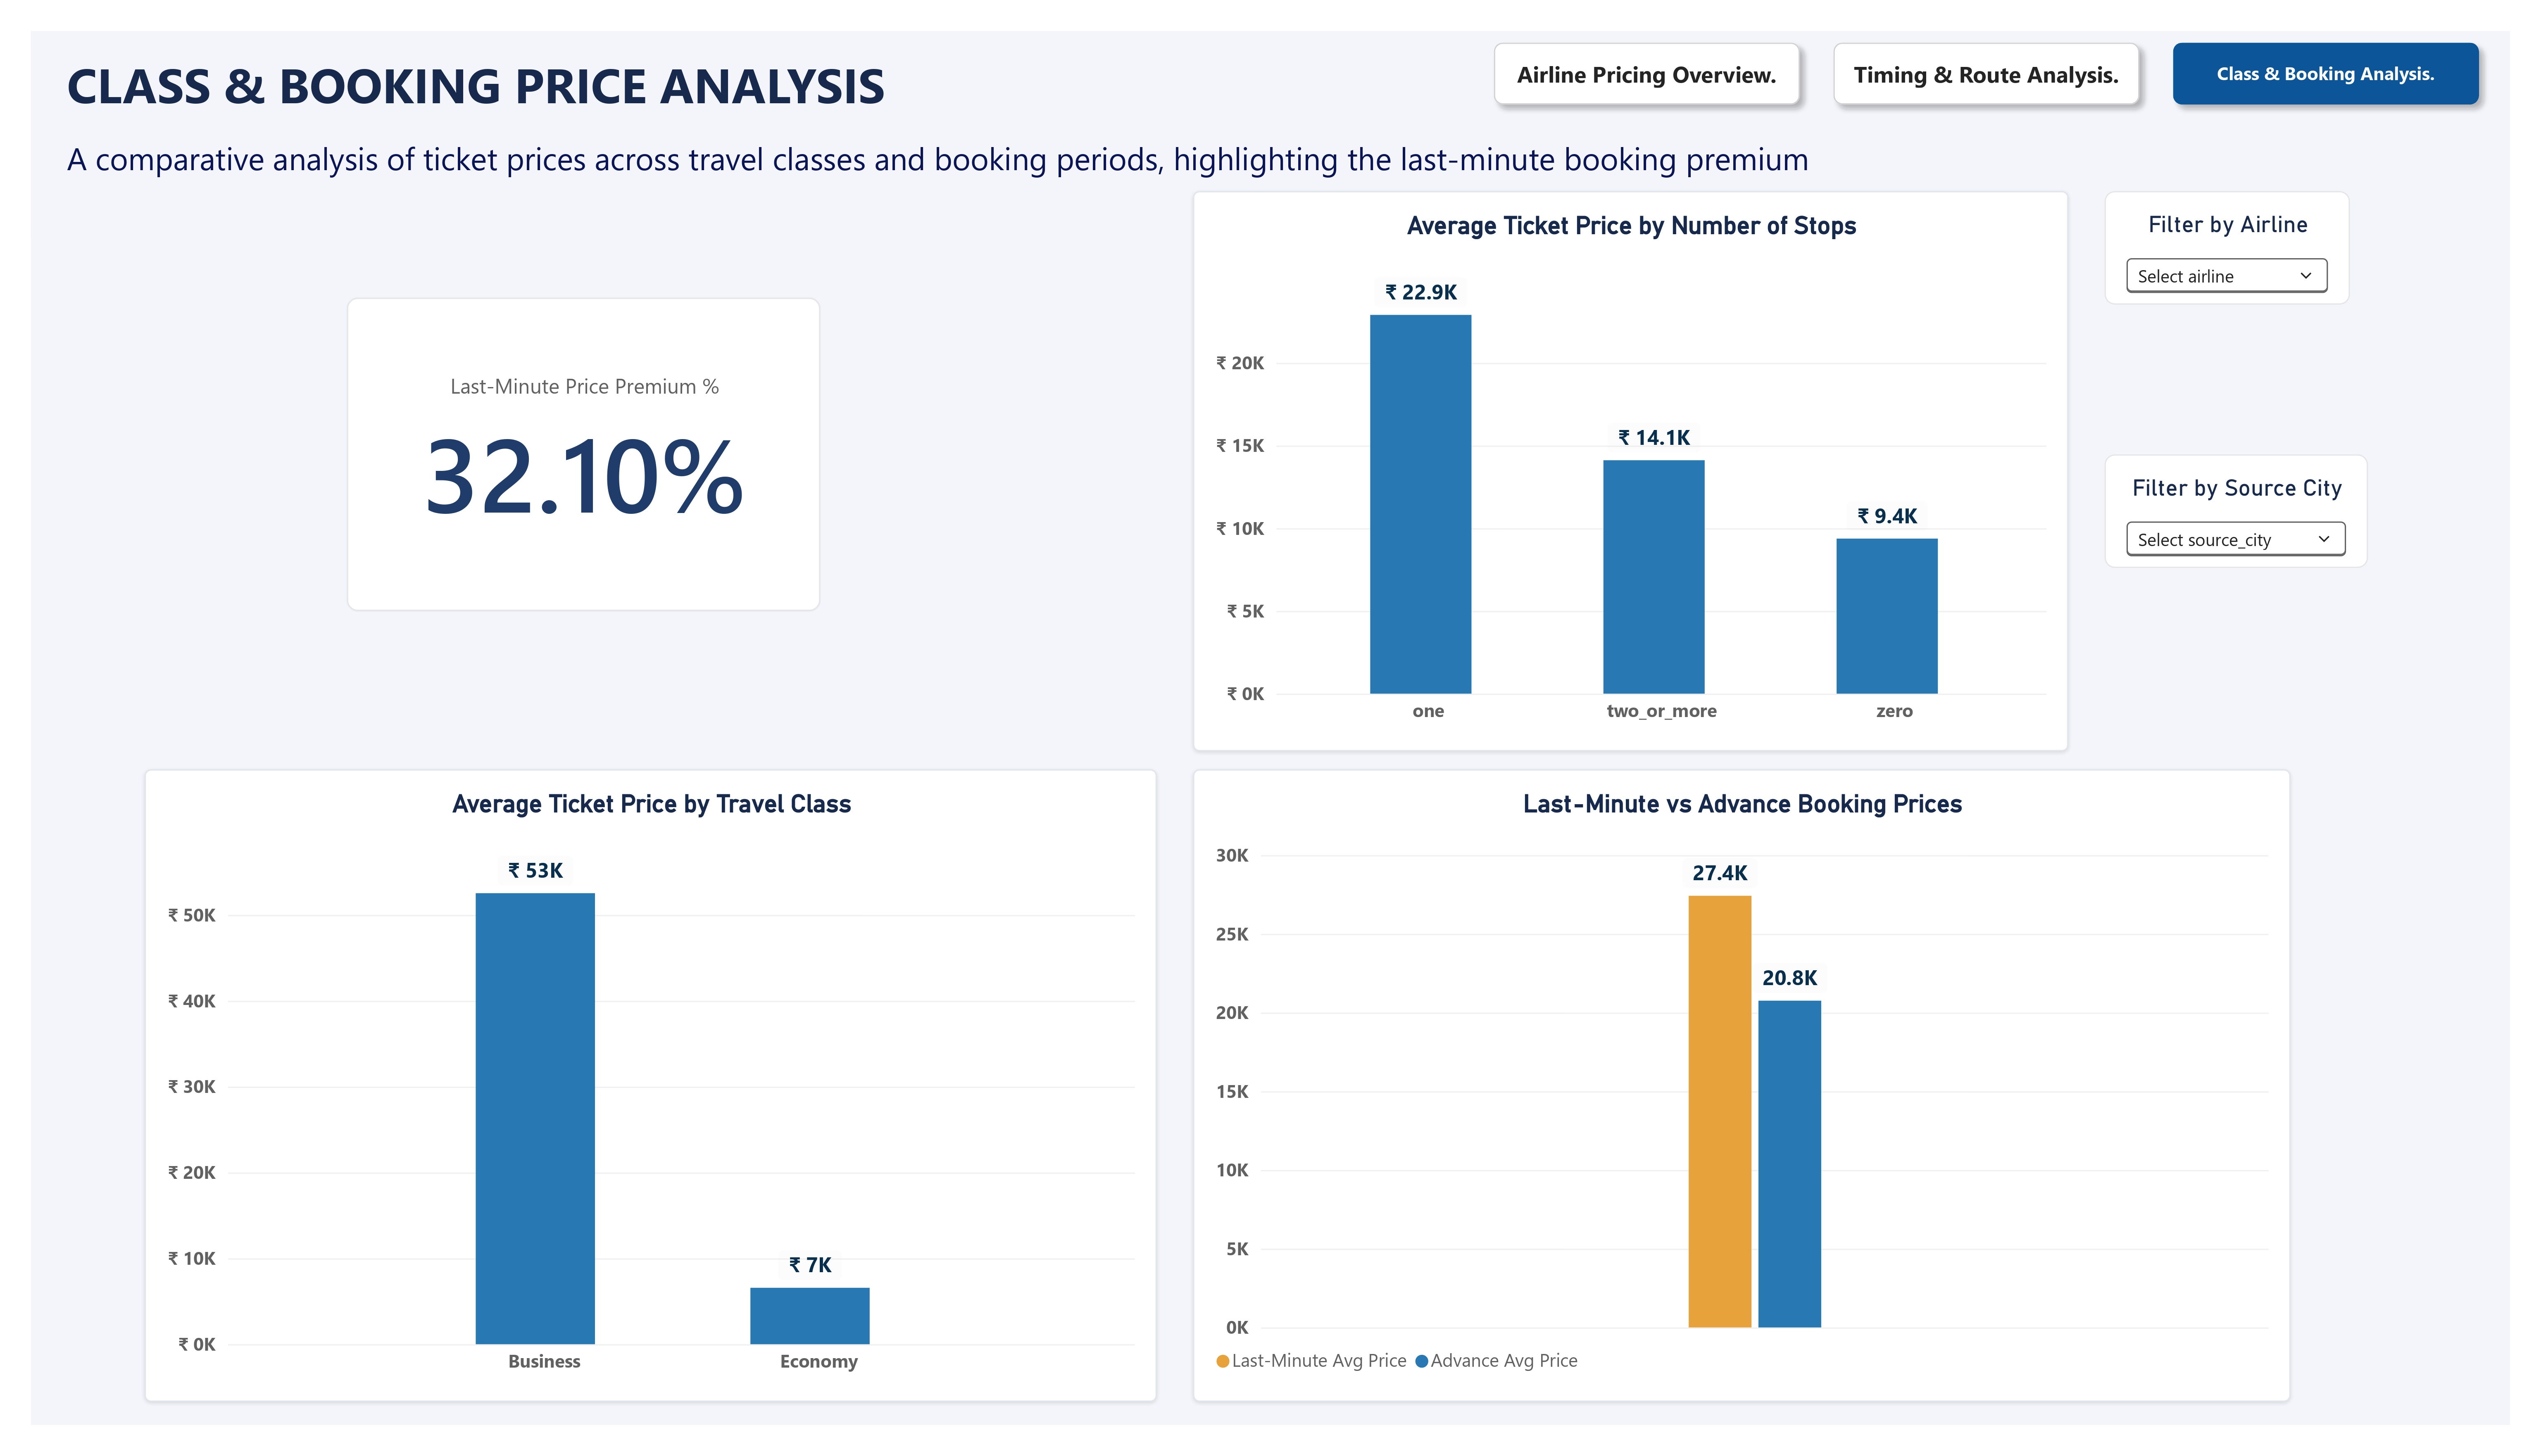

The page's visual inventory and layout, read from the dashboard file:
{"tool":"powerbi","page":{"name":"Class & Booking Analysis.","canvas":[1920,1080],"ordinal":2},"visuals":[{"type":"textbox","box":[28,16,650,66],"z":0},{"type":"textbox","box":[28,82,1356,42],"z":1000},{"type":"clusteredColumnChart","title":"Average Ticket Price by Travel Class ","fields":{"Category":["Airline_Data.class"],"Y":["Airline_Data.Average Ticket Price"]},"box":[88,572,784,490],"z":2000},{"type":"clusteredColumnChart","title":"Last-Minute vs Advance Booking Prices","fields":{"Y":["Airline_Data.Last-Minute Avg Price","Airline_Data.Advance Avg Price"]},"box":[900,572,850,490],"z":3000},{"type":"cardVisual","fields":{"Data":["Airline_Data.Last-Minute Price Premium %"]},"box":[244,206,368,244],"z":4000},{"type":"clusteredColumnChart","title":"Average Ticket Price by Number of Stops","fields":{"Category":["Airline_Data.stops"],"Y":["Airline_Data.Average Ticket Price"]},"box":[900,124,678,434],"z":5000},{"type":"listSlicer","title":"Filter by Airline","fields":{"Values":["Airline_Data.airline"]},"box":[1606,124,190,88],"z":6000},{"type":"listSlicer","title":"Filter by Source City","fields":{"Values":["Airline_Data.source_city"]},"box":[1606,328,204,88],"z":7000},{"type":"pageNavigator","box":[1124,0,782,66],"z":7001}]}

Visuals, with their boxes on the page's 1920x1080 design canvas (x1, y1, x2, y2). These are canvas units, not pixel positions in the 2541x1456 screenshot, which may show the page scaled, cropped or inside an application window:
textbox: region(28, 16, 678, 82)
textbox: region(28, 82, 1384, 124)
"Average Ticket Price by Travel Class " clusteredColumnChart: region(88, 572, 872, 1062)
"Last-Minute vs Advance Booking Prices" clusteredColumnChart: region(900, 572, 1750, 1062)
cardVisual - Airline_Data.Last-Minute Price Premium %: region(244, 206, 612, 450)
"Average Ticket Price by Number of Stops" clusteredColumnChart: region(900, 124, 1578, 558)
"Filter by Airline" listSlicer: region(1606, 124, 1796, 212)
"Filter by Source City" listSlicer: region(1606, 328, 1810, 416)
pageNavigator: region(1124, 0, 1906, 66)
